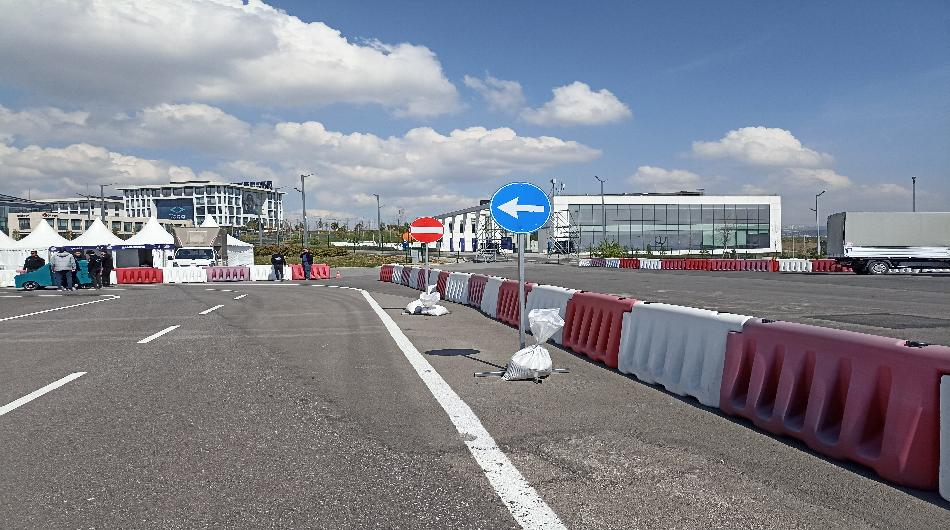girilmez: (406, 216, 447, 245)
sola_mecburi_1: (487, 180, 554, 234)
